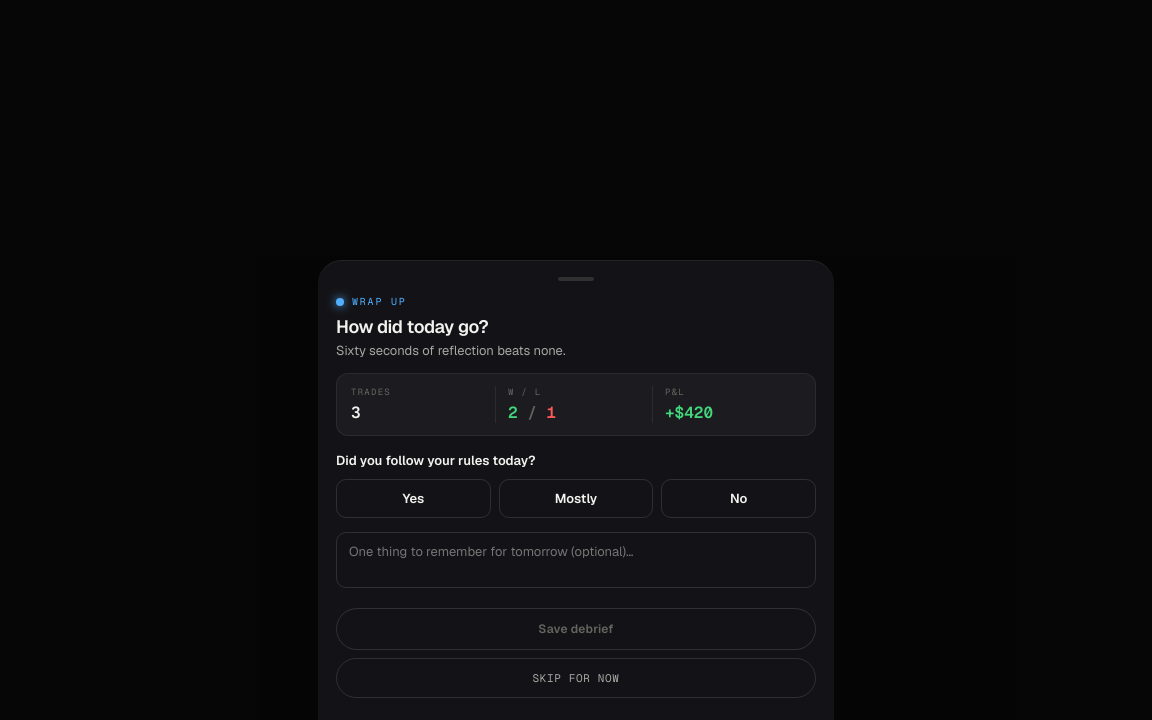
Test: PostSessionDebriefSheet › Save button is disabled until an answer is selected
The image size is (1152, 720).
Check: the button "Save debrief" is disabled, box [336, 608, 816, 650]
Click the button "Yes" at [413, 498], box [336, 479, 491, 518]
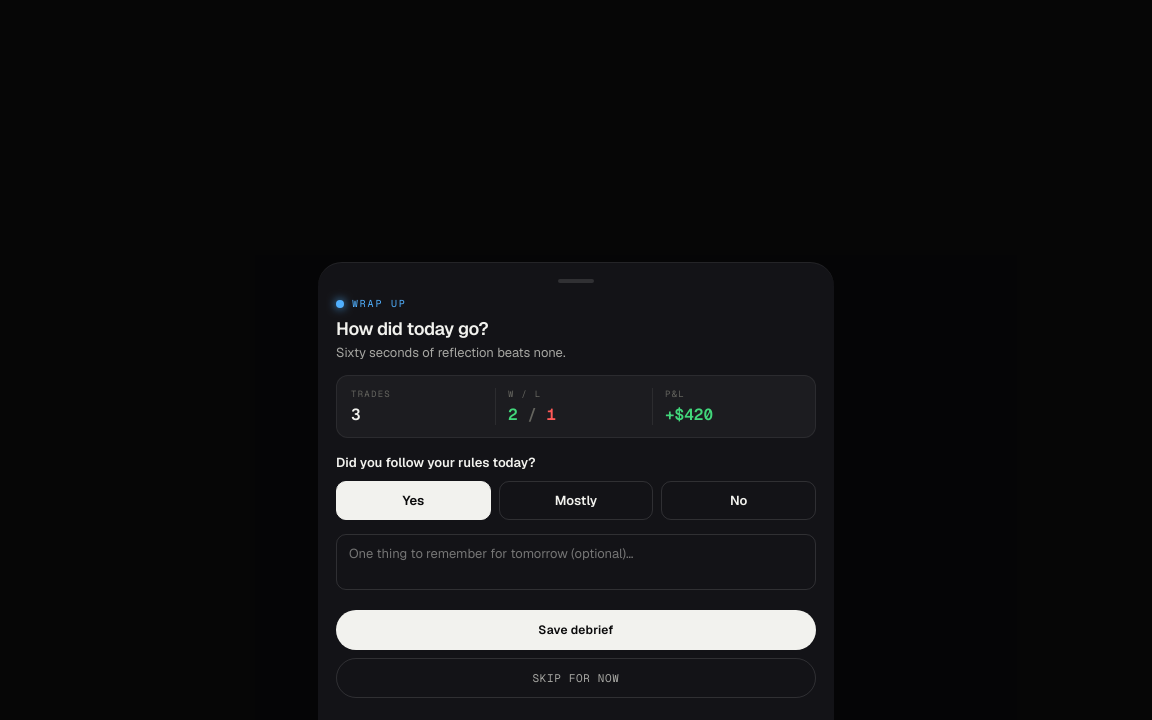
Check: the button "Save debrief" is enabled, box [336, 610, 816, 650]
